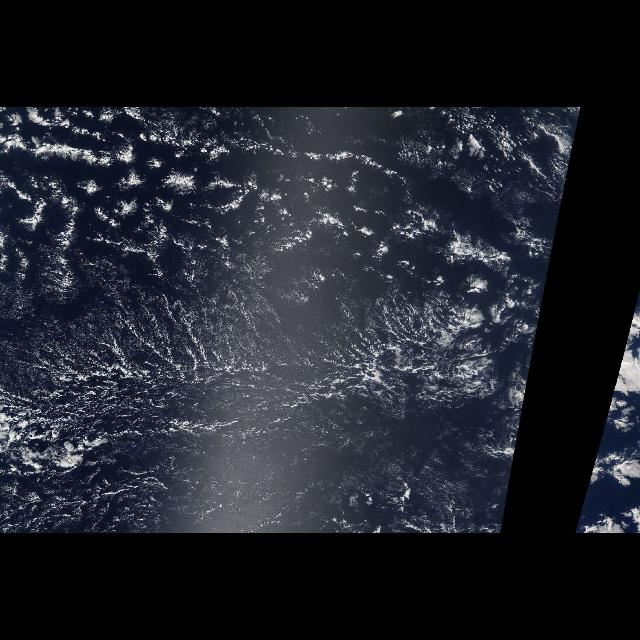Flower: (37, 165, 261, 228)
Gravel: (4, 111, 352, 285)
Sugar: (1, 279, 483, 521)
